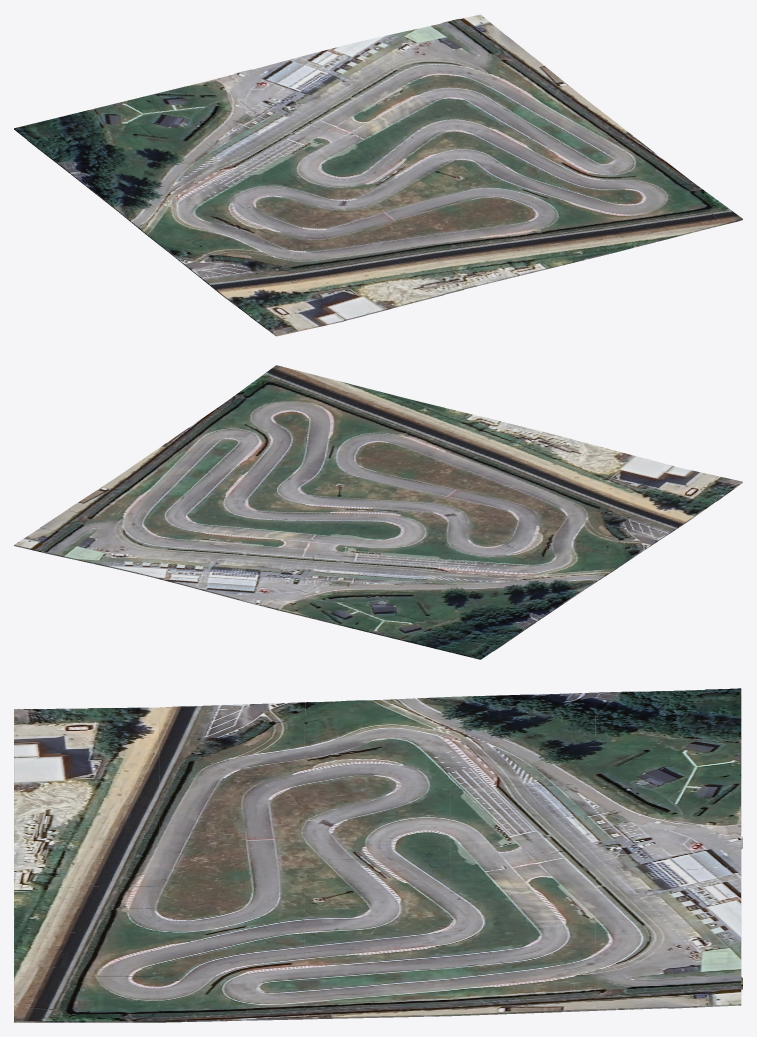
File: CabanasRaras.fbx
3 views of the same model, one above another, from view 1: azimuth 30°, elevation 25°; view 2: azimuth 150°, elevation 25°; view 3: azimuth 270°, elevation 25° (orthographic). The views are drawn at different scales.
Visible parts, largest first — view 1: BuildingMesh-00023; view 2: BuildingMesh-00023; view 3: BuildingMesh-00023.
Boxes of the visible parts, box(x1,y1,x2,y2) form: BuildingMesh-00023: box(14, 14, 742, 336); BuildingMesh-00023: box(14, 365, 742, 659); BuildingMesh-00023: box(14, 688, 742, 1022).
Bounding box in the file's own units: 63707 × 2611 × 62179.
35 materials, 35 textured.
